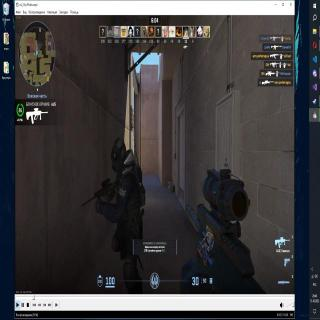CT-Body: (101, 138, 145, 274)
CT-Head: (107, 137, 131, 169)
